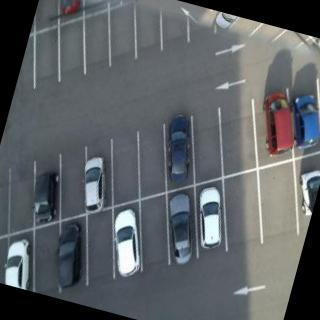car: (151, 188, 207, 269), (100, 202, 156, 280), (247, 88, 304, 162), (152, 108, 205, 185), (43, 217, 96, 294), (184, 182, 235, 255), (71, 148, 119, 218), (22, 161, 70, 228), (279, 84, 320, 155), (1, 231, 43, 291), (288, 161, 320, 221)
parking-space: (202, 157, 281, 260), (238, 151, 317, 253), (199, 88, 277, 188), (119, 183, 188, 280), (172, 99, 241, 195), (66, 200, 133, 296), (92, 124, 158, 215), (41, 136, 106, 228), (66, 1, 126, 82), (1, 150, 52, 242), (18, 17, 75, 97), (44, 10, 100, 88), (93, 1, 151, 74), (1, 165, 27, 251)
